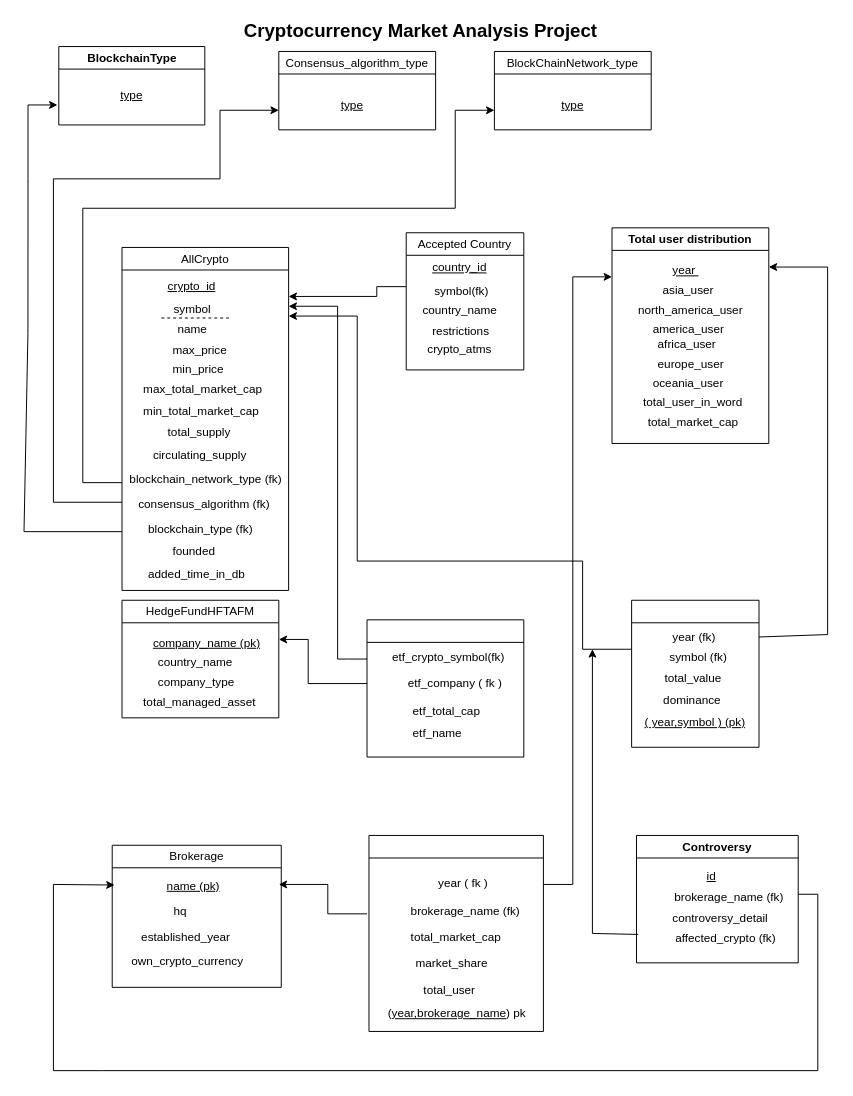
This 853x1096 diagram has some shape labels left out. The centre of each missing label's shape, as x and y in pixels:
"EFTAsTransactionByAMF" goes at point (445, 688).
"Market Dominance" goes at point (695, 673).
"Top Brokerage" goes at point (455, 932).
